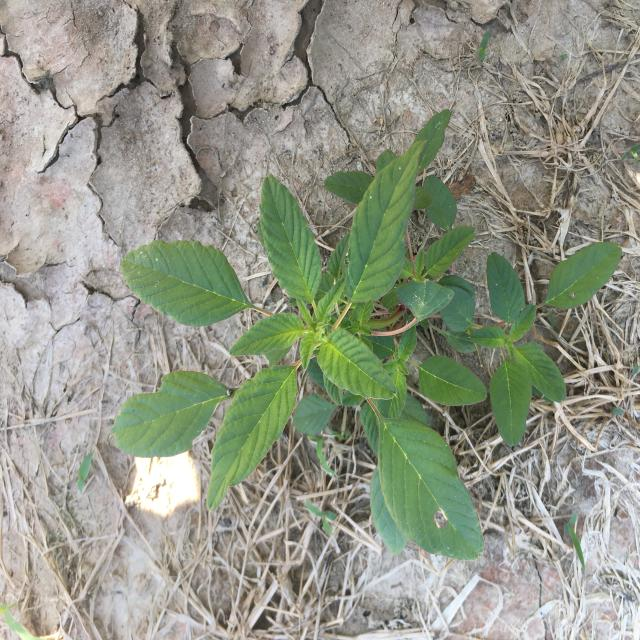PalmerAmaranth: (109, 110, 625, 563)
